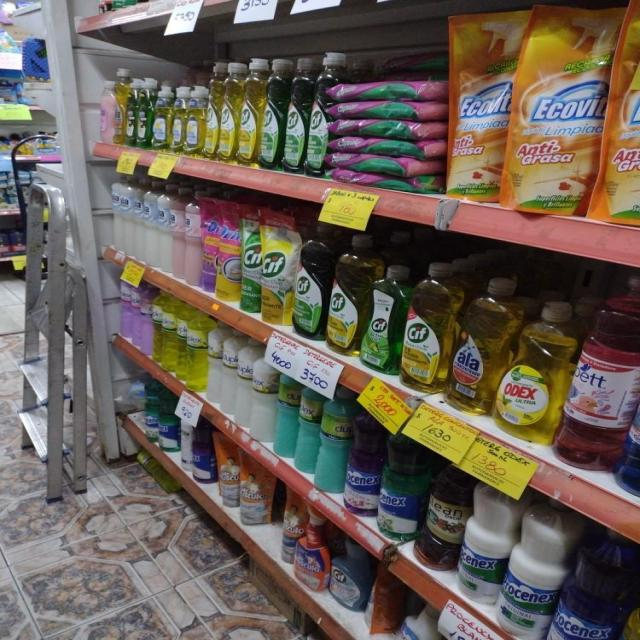ala_conc_amarillo: (449, 273, 502, 416)
ala_crem_rosado: (184, 183, 202, 289), (172, 181, 185, 282)
cif_conc_bot_amarilla: (401, 261, 449, 392), (328, 233, 362, 356), (239, 59, 261, 167), (220, 61, 238, 163), (205, 60, 220, 161)
cif_conc_botella_verde: (363, 263, 400, 374), (294, 221, 326, 341), (283, 56, 307, 174), (260, 57, 282, 170)
cif_conc_sachet_amarillo: (261, 208, 293, 327), (241, 204, 261, 317)
magistral_con_amarillo: (186, 85, 204, 158), (153, 82, 171, 152), (624, 565, 640, 640), (172, 85, 186, 155)
odex: (497, 298, 563, 443)
